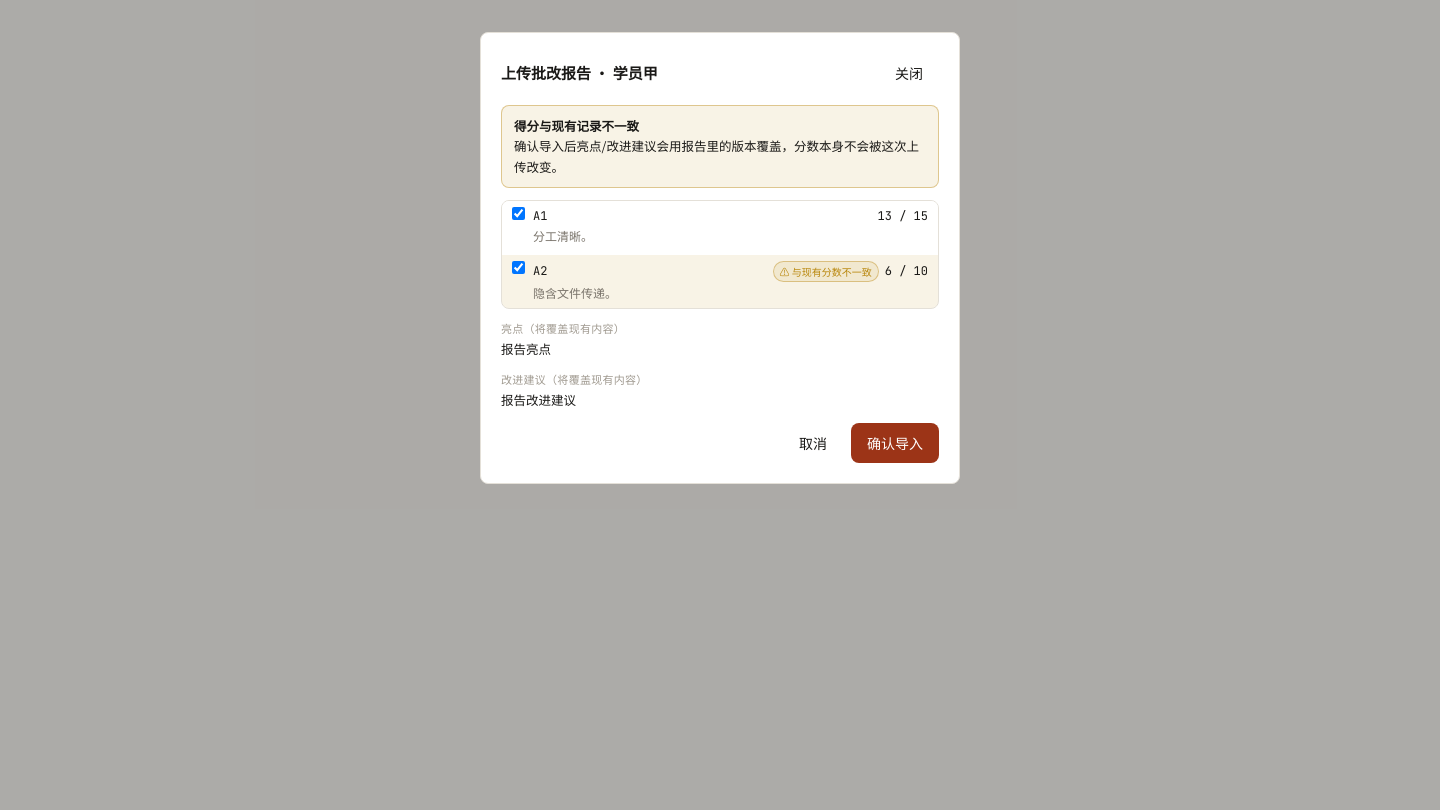
Test case: ReportUploadDialog › 确认失败时就地显示错误，且对话框不关闭
Expected: the text "分工清晰。" is shown, [533,227,593,244]
Click the button "确认导入": (895, 443) [851,423,939,463]
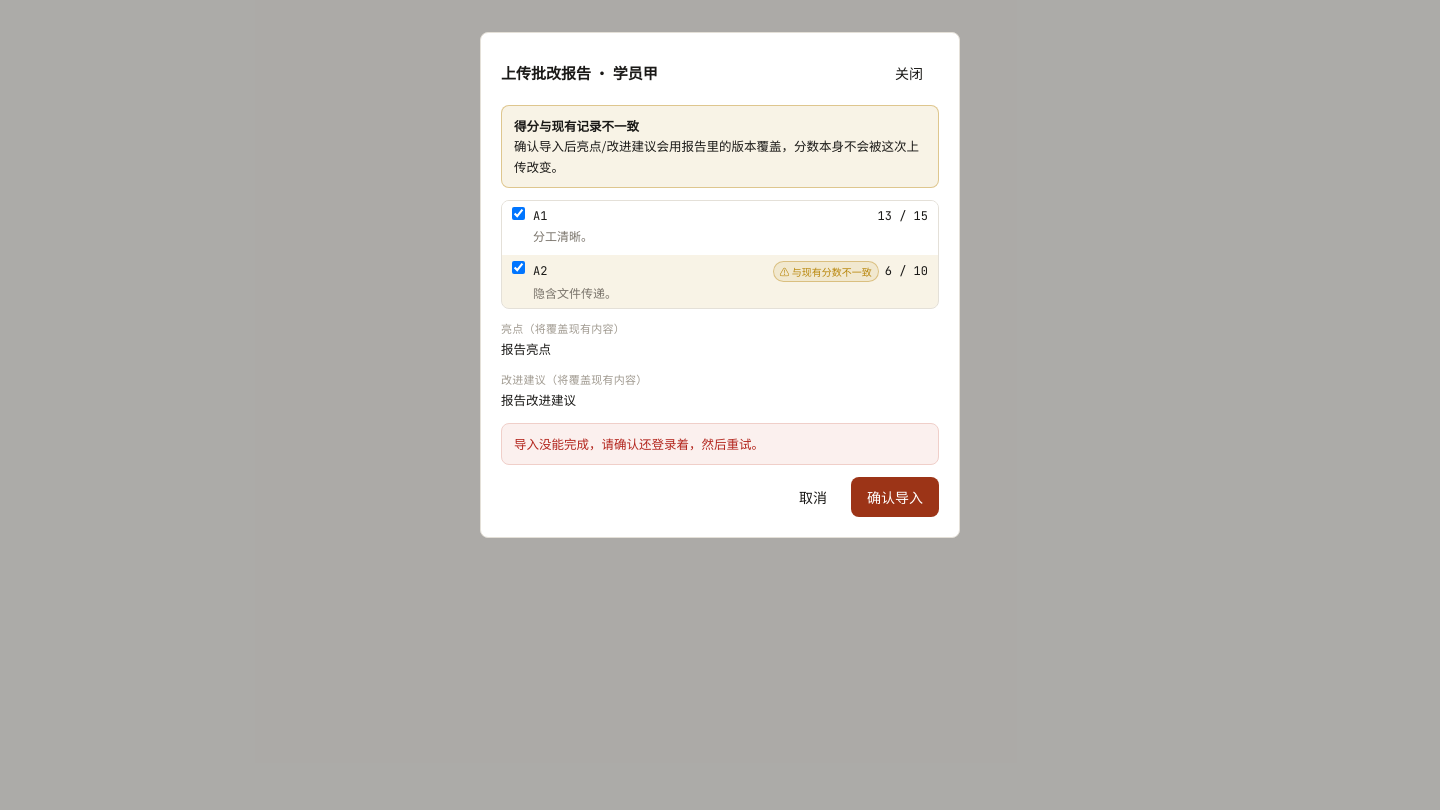
Result: the message shows "导入没能完成" at [514,434,764,453]
